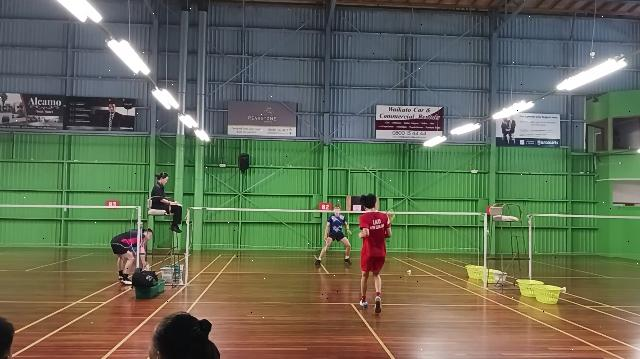Shuttlecock: (404, 265, 414, 275)
